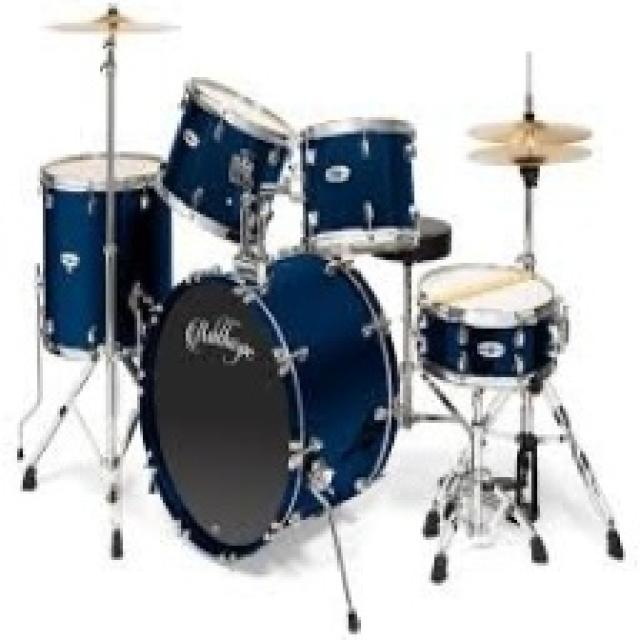drums: (23, 0, 626, 609)
